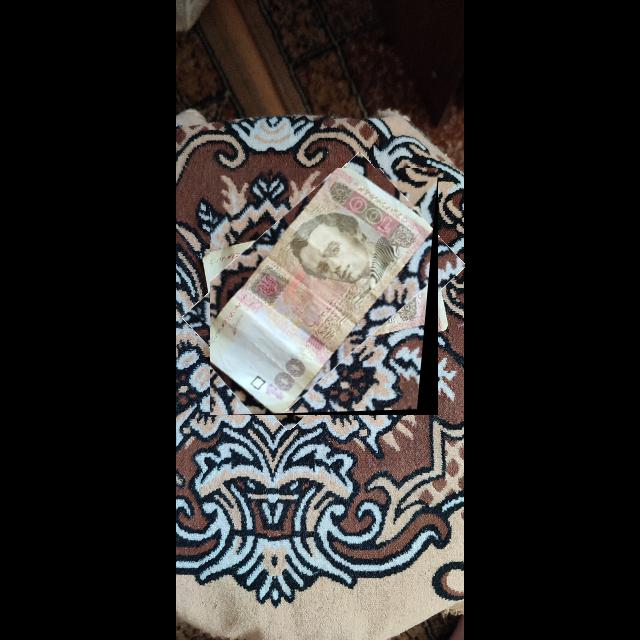100uah: (210, 168, 435, 414)
